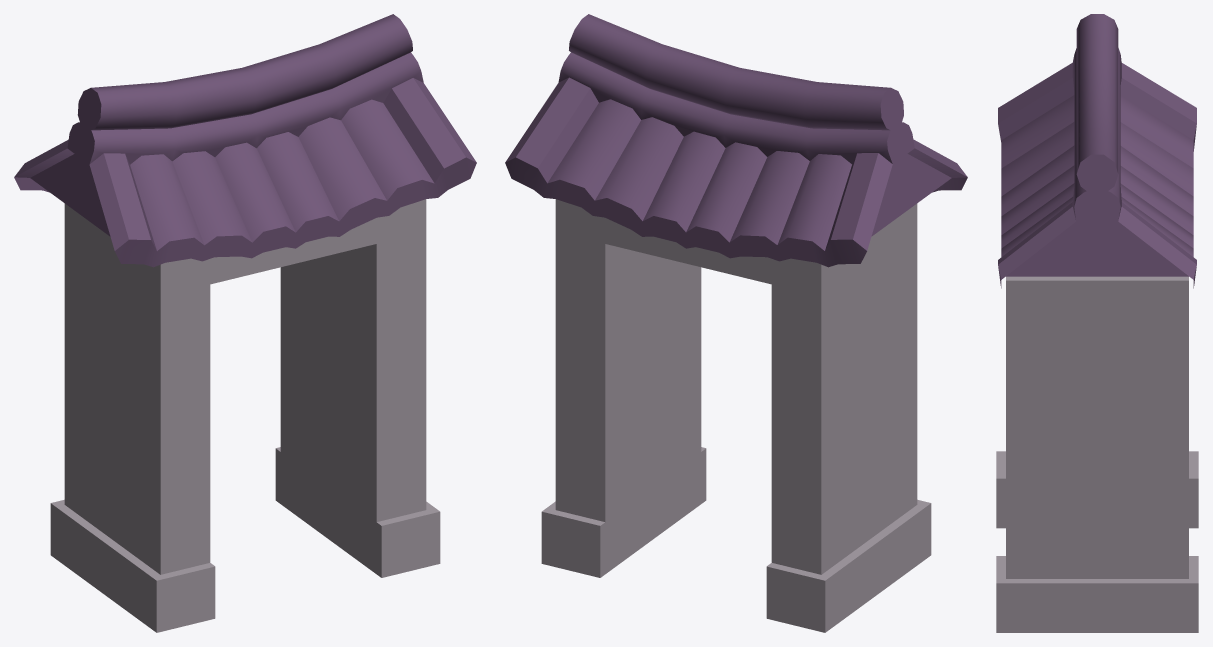
File: Town_Door_Frame.fbx
3 renders of one model, left to right at view 1: azimuth 30°, elevation 25°; view 2: azimuth 150°, elevation 25°; view 3: azimuth 270°, elevation 25°, orthographic. The views are drawn at different scales.
Visible parts, largest first — view 1: Town_Door_Frame; view 2: Town_Door_Frame; view 3: Town_Door_Frame.
Part boxes in pixels (x1,y1,x2,y2): Town_Door_Frame: (14,14,476,632); Town_Door_Frame: (505,14,967,632); Town_Door_Frame: (996,14,1198,632).
Size of the model in its own units: 4.36 by 5.82 by 2.21.
